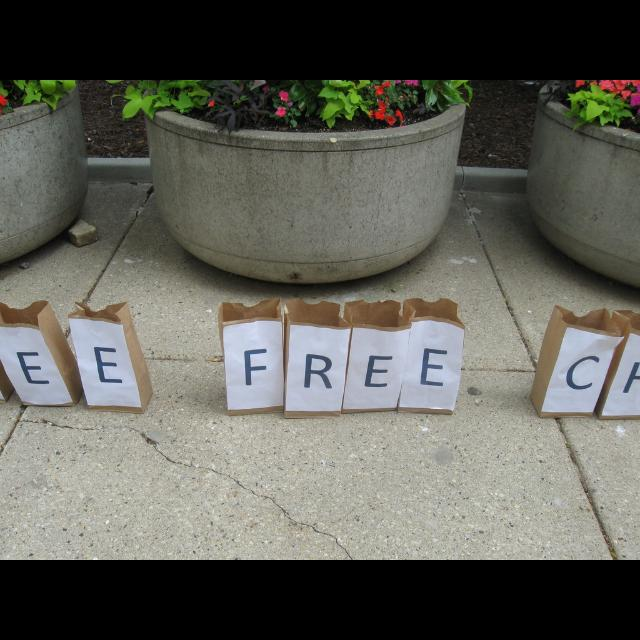Flower: (368, 80, 417, 126), (574, 80, 640, 108), (277, 90, 293, 104), (274, 107, 288, 117), (0, 93, 10, 105), (207, 99, 215, 108)
